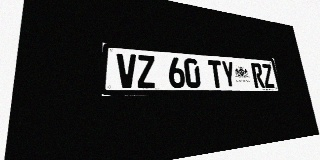0: (183, 58, 201, 88)
6: (168, 57, 186, 88)
R: (251, 63, 265, 88)
T: (208, 60, 224, 88)
V: (117, 53, 137, 88)
Y: (221, 61, 237, 88)
Z: (137, 55, 156, 88), (261, 64, 275, 88)
